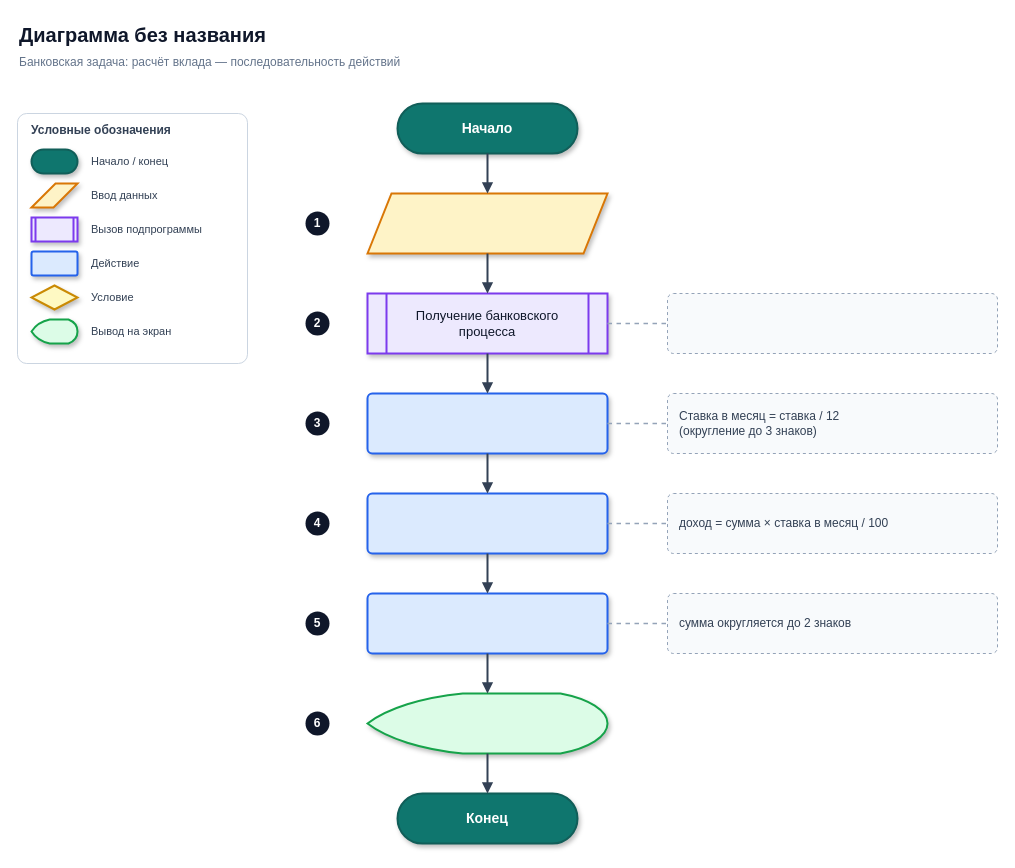
This 1015x868 diagram has some shape labels left out. Here are the shapes that lost their labels. From the top down, the centre of each, then its label:
At (x=488, y=224): "Ввод суммы и срока".
At (x=832, y=323): "Ставка по сроку вклада: 91 день — 11,5 %, 181 день — 11,75 %, 365 дней — 12,5 %".
At (x=488, y=424): "Расчёт процентов одного дня".
At (x=488, y=524): "Расчёт дохода".
At (x=488, y=624): "Сумма = сумма + доход".
At (x=488, y=724): "Вывод: Сумма".
